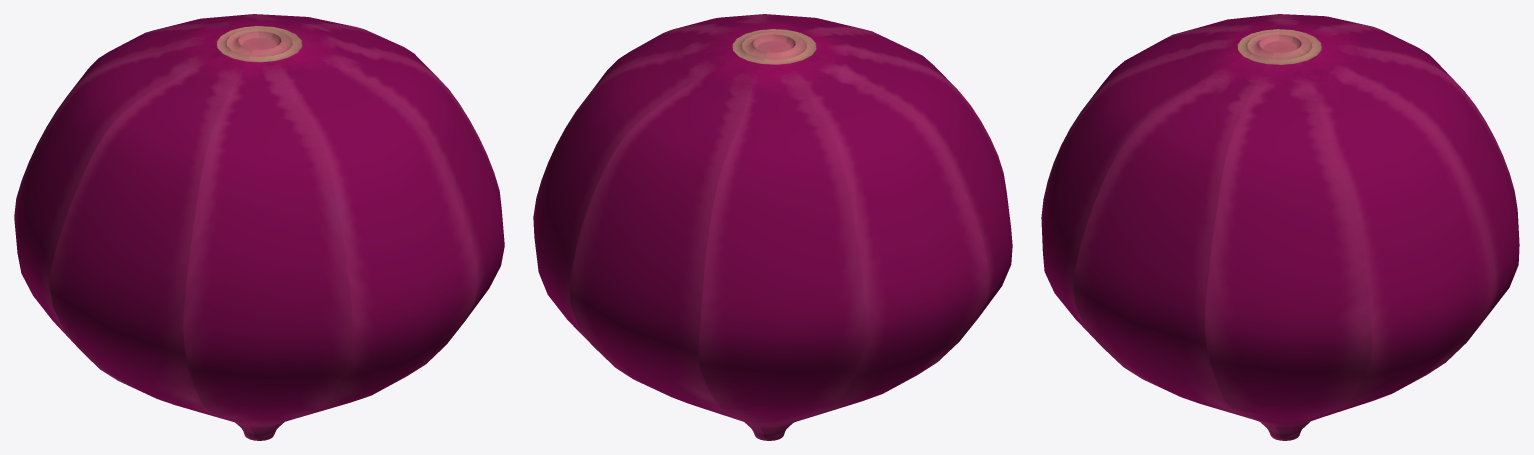
Rendered from Sibuyas.glb.
The picture shows the model from 3 angles, left to right: view 1: azimuth 30°, elevation 25°; view 2: azimuth 150°, elevation 25°; view 3: azimuth 270°, elevation 25°; orthographic projection.
Visible parts, largest first — view 1: Sibuyas; view 2: Sibuyas; view 3: Sibuyas.
Part boxes in pixels (bbox=[...]): Sibuyas: bbox=[14, 14, 504, 440]; Sibuyas: bbox=[533, 14, 1012, 440]; Sibuyas: bbox=[1041, 14, 1519, 440].
Bounding box in the file's own units: 1.79 × 1.58 × 1.76.
1 material, 1 textured.
